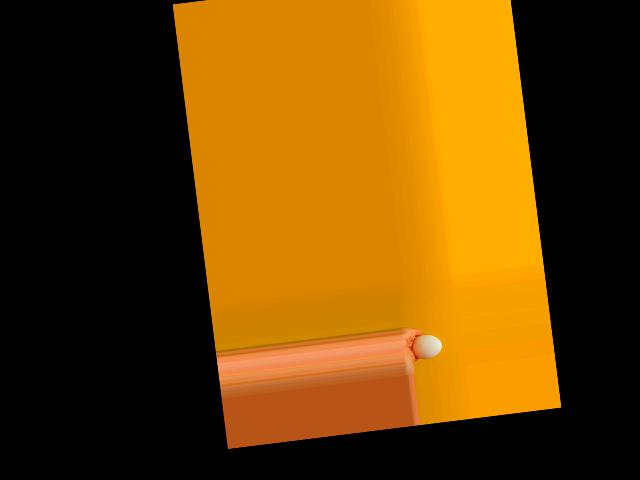egg: (410, 332, 443, 359)
